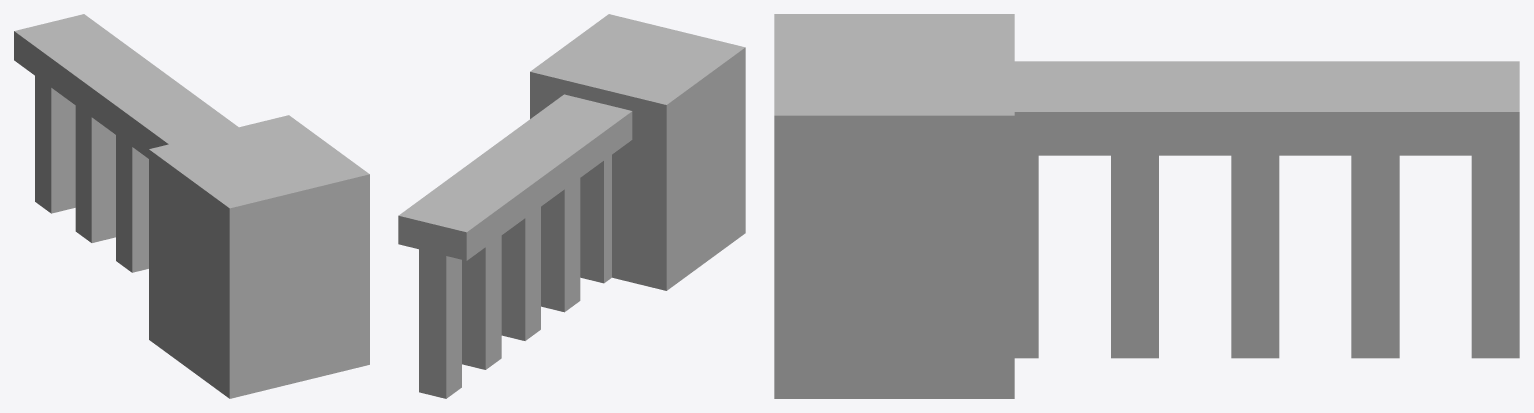
Rendered from LightStoneWallSmallChunkyFence1.fbx.
3 renders of one model, left to right at view 1: azimuth 30°, elevation 25°; view 2: azimuth 150°, elevation 25°; view 3: azimuth 270°, elevation 25°, orthographic. The views are drawn at different scales.
Parts seen in each view (by area): view 1: LightStoneWallSmallChunkyFence1; view 2: LightStoneWallSmallChunkyFence1; view 3: LightStoneWallSmallChunkyFence1.
Boxes of the visible parts, <box> form: LightStoneWallSmallChunkyFence1: <box>14,14,369,398</box>; LightStoneWallSmallChunkyFence1: <box>398,14,745,398</box>; LightStoneWallSmallChunkyFence1: <box>774,14,1519,398</box>.
Size of the model in its own units: 100 by 130 by 310.
Materials: 1 (1 with a texture image).
